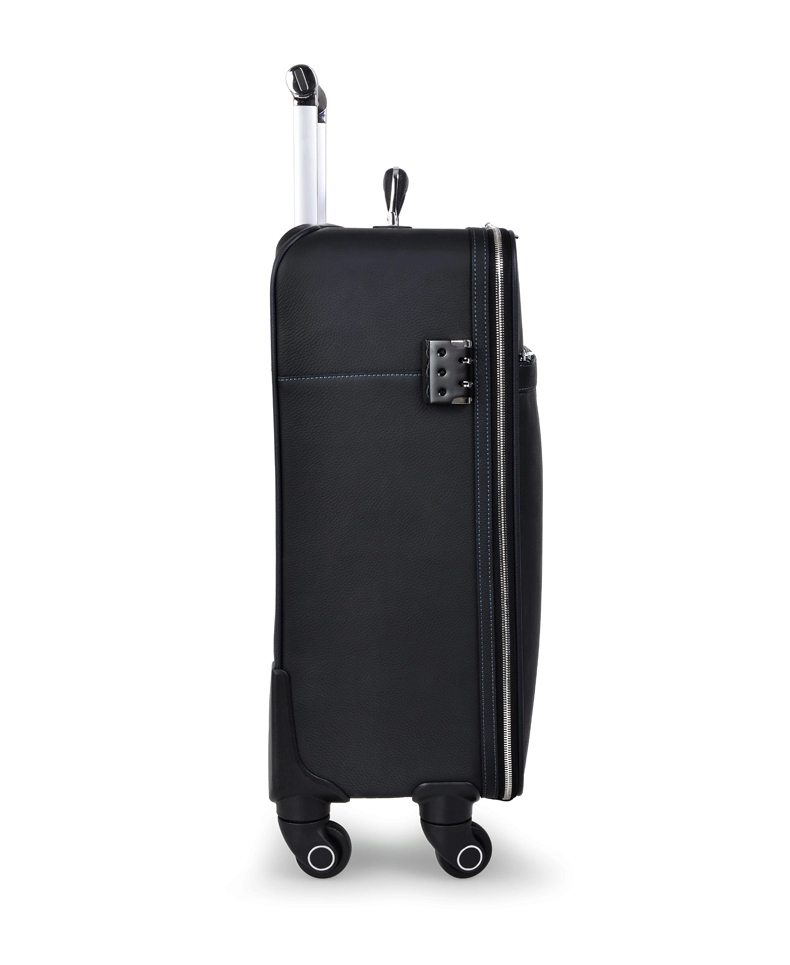luggage: (266, 62, 545, 881)
